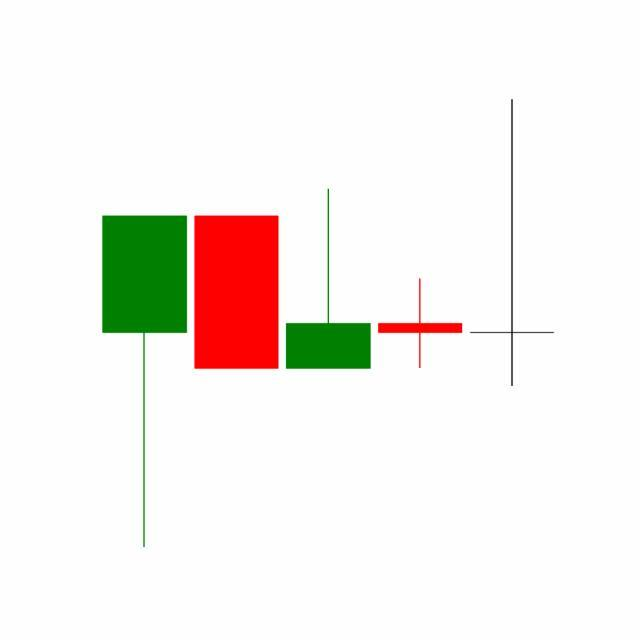Spinning Top: (374, 278, 468, 370)
